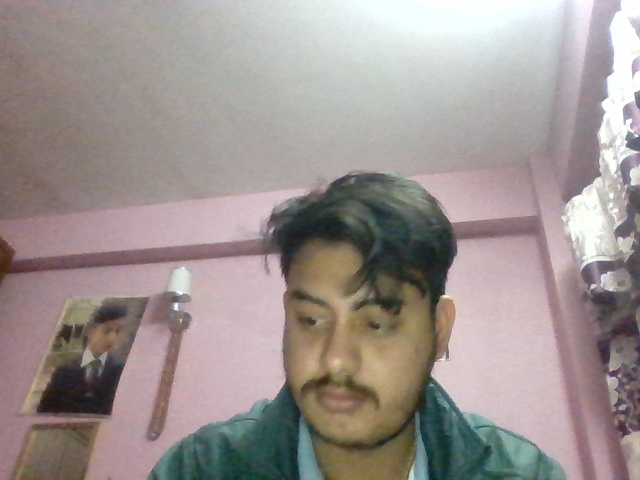no mask: (277, 343, 445, 446)
